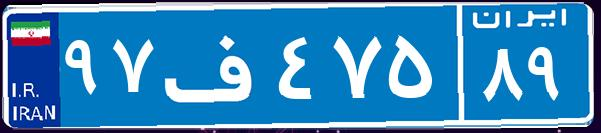4: (273, 28, 330, 110)
5: (385, 28, 445, 110)
7: (330, 28, 385, 110), (110, 28, 158, 105)
8: (475, 38, 525, 113)
9: (57, 26, 110, 107), (525, 38, 570, 115)
ف: (158, 15, 273, 115)
